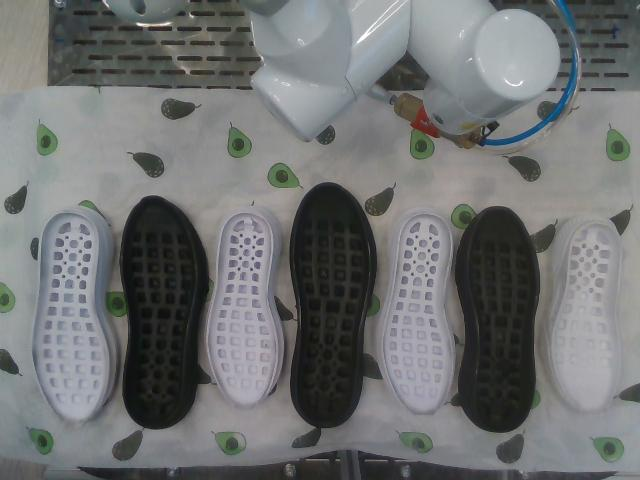shoes: (294, 185, 368, 421), (123, 198, 196, 424), (32, 213, 105, 426), (468, 209, 535, 431), (383, 214, 453, 415), (208, 213, 276, 410), (553, 223, 620, 413)
